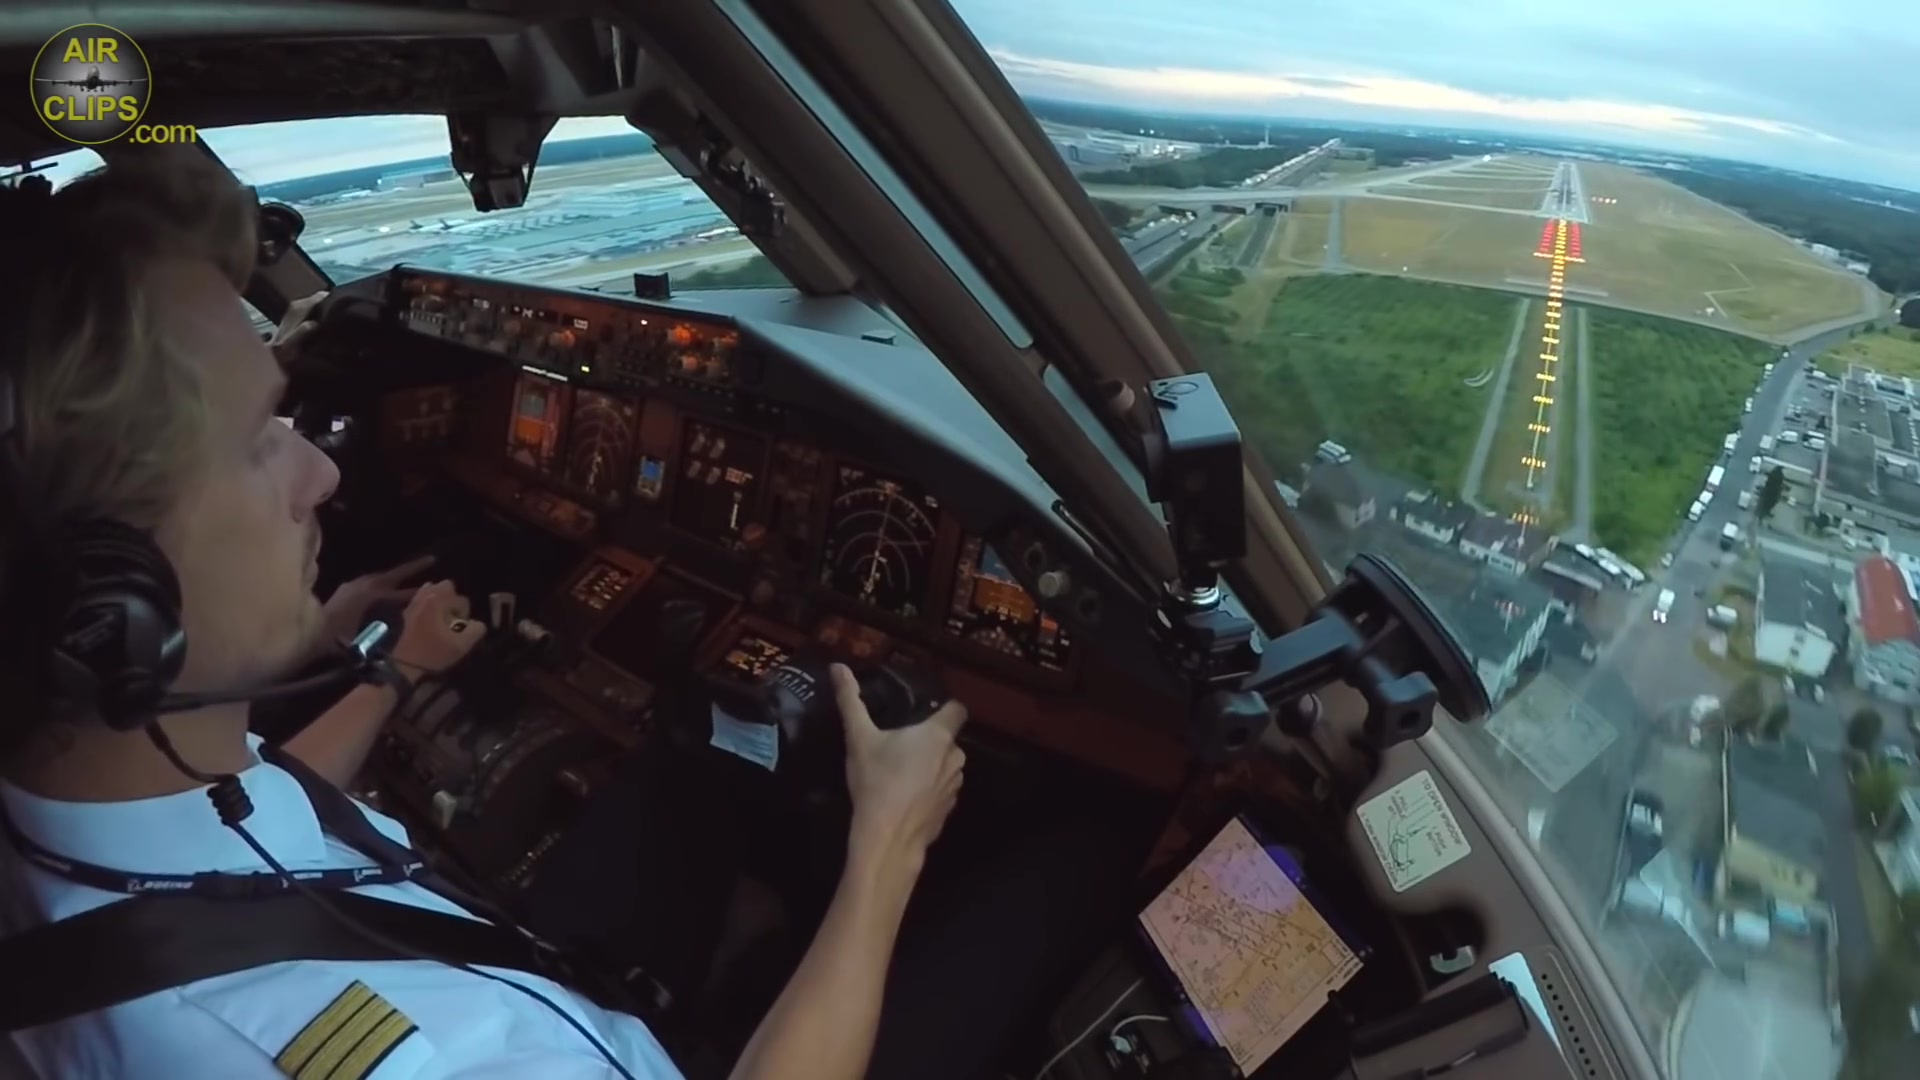runway: (1534, 161, 1592, 225)
